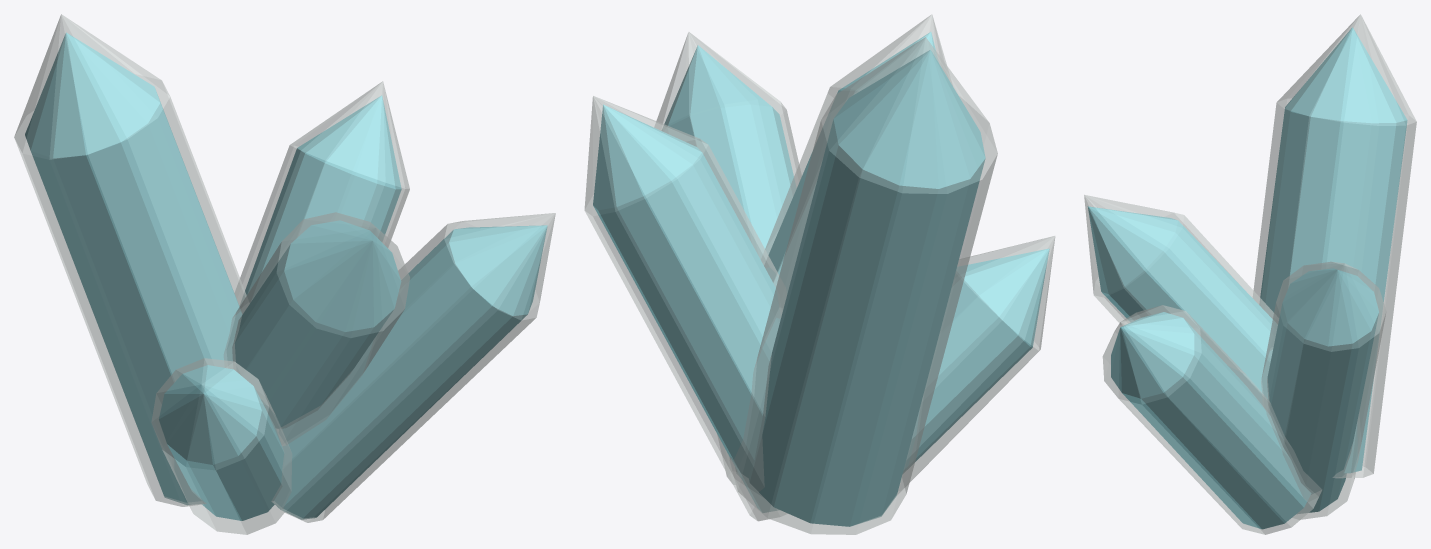
File: phiras.glb
3 views of the same model, side by side, from view 1: azimuth 30°, elevation 25°; view 2: azimuth 150°, elevation 25°; view 3: azimuth 270°, elevation 25° (orthographic). The views are drawn at different scales.
Parts seen in each view (by area): view 1: group803962687, group1169970484, group1236163938, group353128991, group1822676454; view 2: group803962687, group1822676454, group353128991, group1169970484, group1236163938; view 3: group803962687, group1169970484, group1822676454, group1236163938.
Part boxes in pixels (box(x1,y1,x2,y2)): group803962687: box(14, 14, 249, 506); group1169970484: box(271, 213, 555, 522); group1236163938: box(224, 212, 409, 445); group353128991: box(151, 358, 291, 534); group1822676454: box(235, 81, 409, 313); group803962687: box(730, 37, 997, 534); group1822676454: box(584, 96, 787, 521); group353128991: box(897, 236, 1055, 494); group1169970484: box(654, 32, 801, 484); group1236163938: box(763, 14, 952, 311); group803962687: box(1253, 14, 1416, 477); group1169970484: box(1102, 305, 1321, 534); group1822676454: box(1261, 261, 1386, 519); group1236163938: box(1084, 195, 1278, 412).
Bounding box in the file's own units: 0.2563 × 0.3057 × 0.2126.
